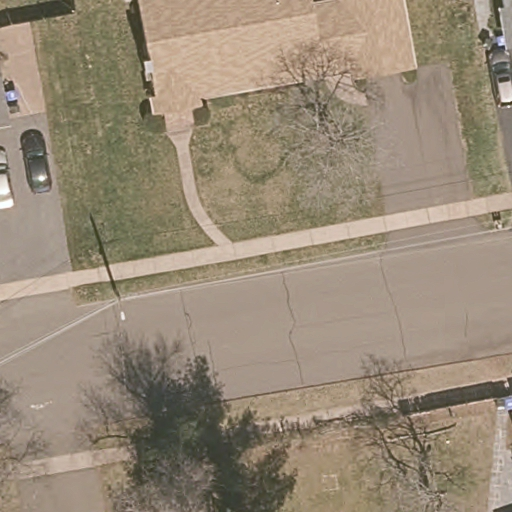DT: (115, 292, 127, 321)
